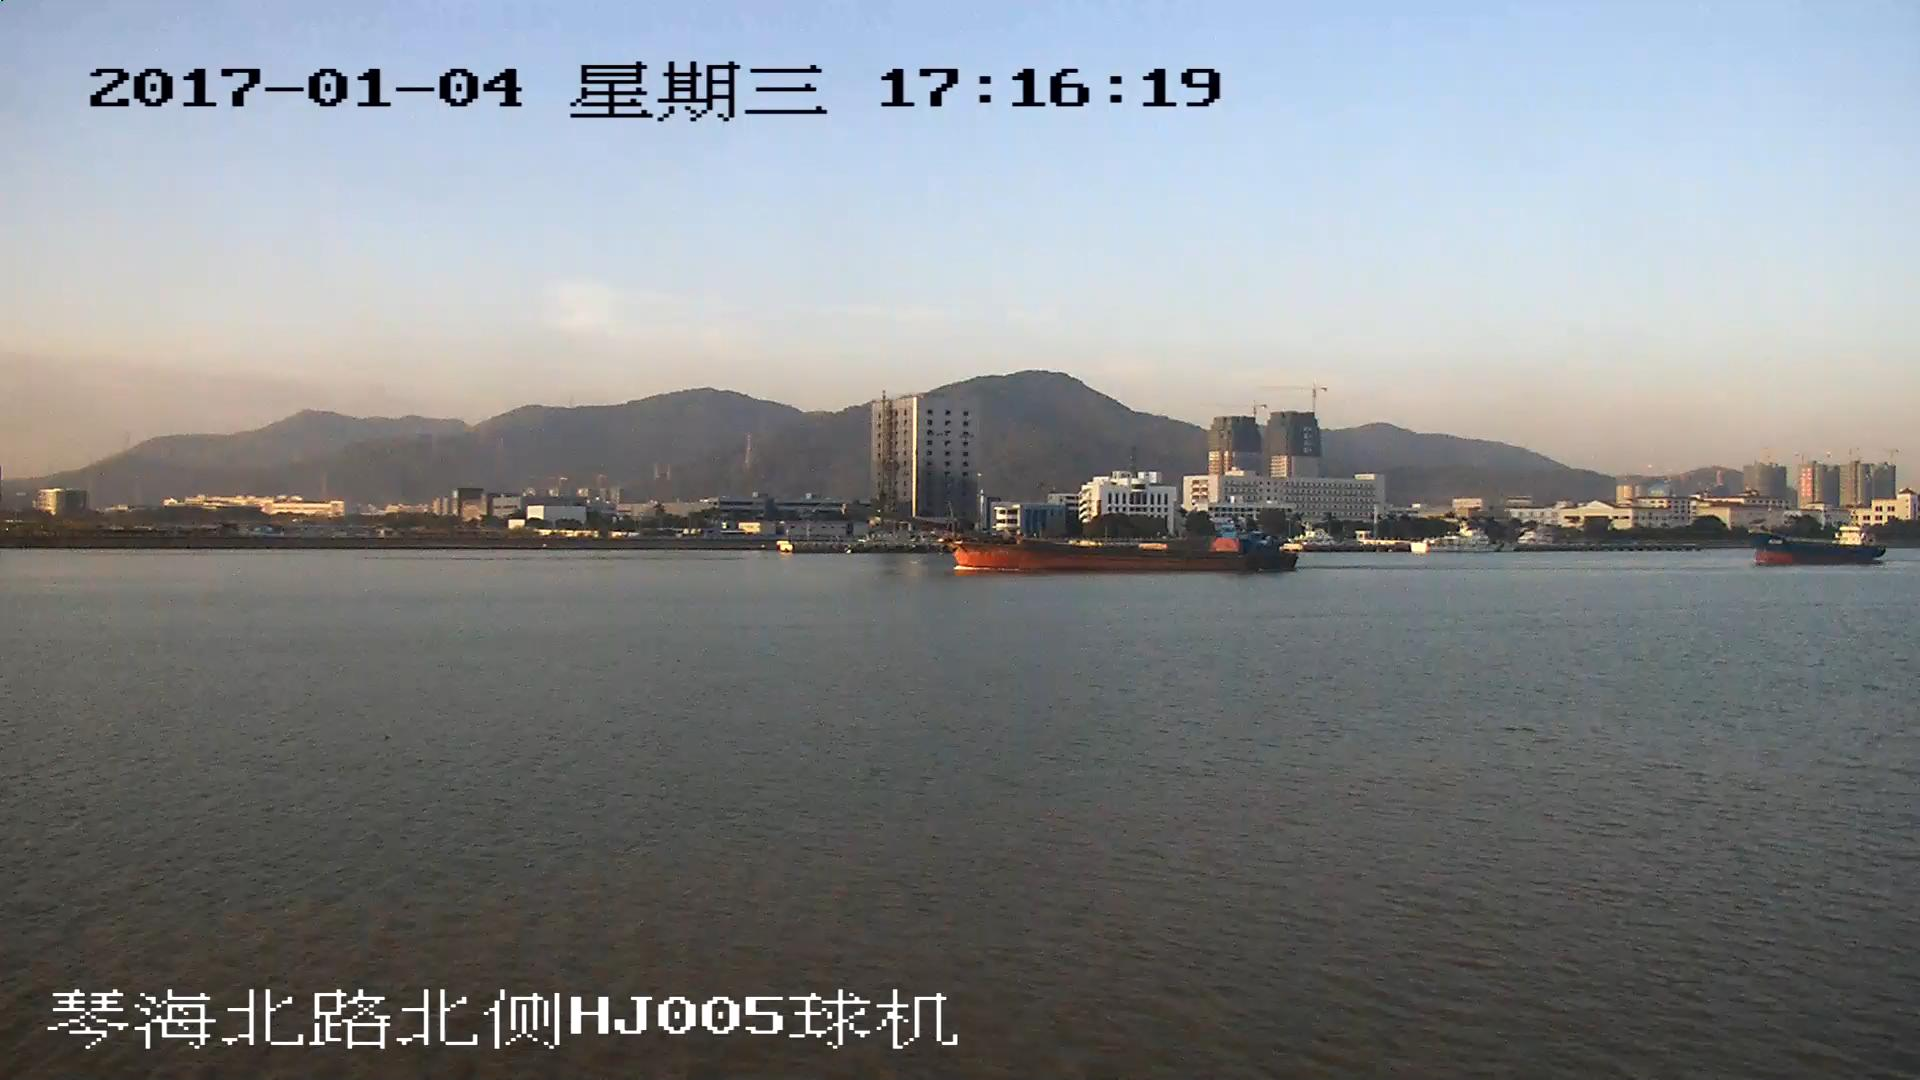bulk cargo carrier: (842, 502, 1297, 577)
general cargo ship: (1757, 530, 1886, 562)
